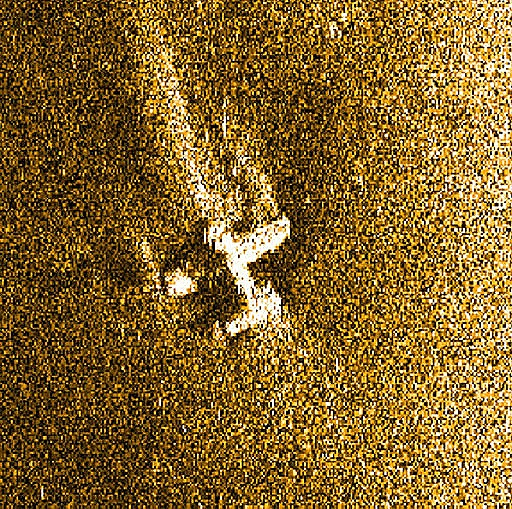aircraft: (147, 213, 297, 340)
